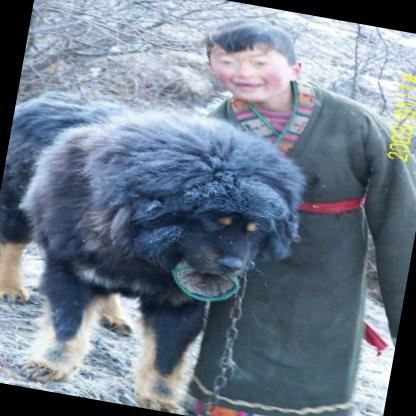Tibetan_mastiff: (0, 78, 316, 416)
